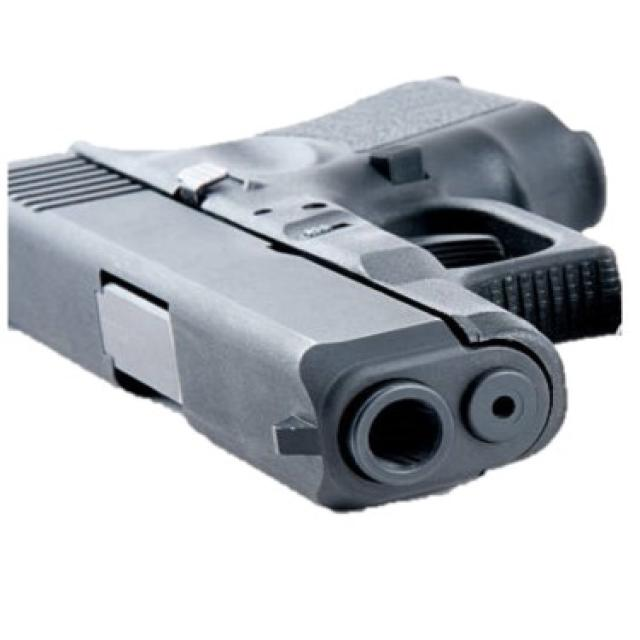pistol: (1, 68, 629, 525)
